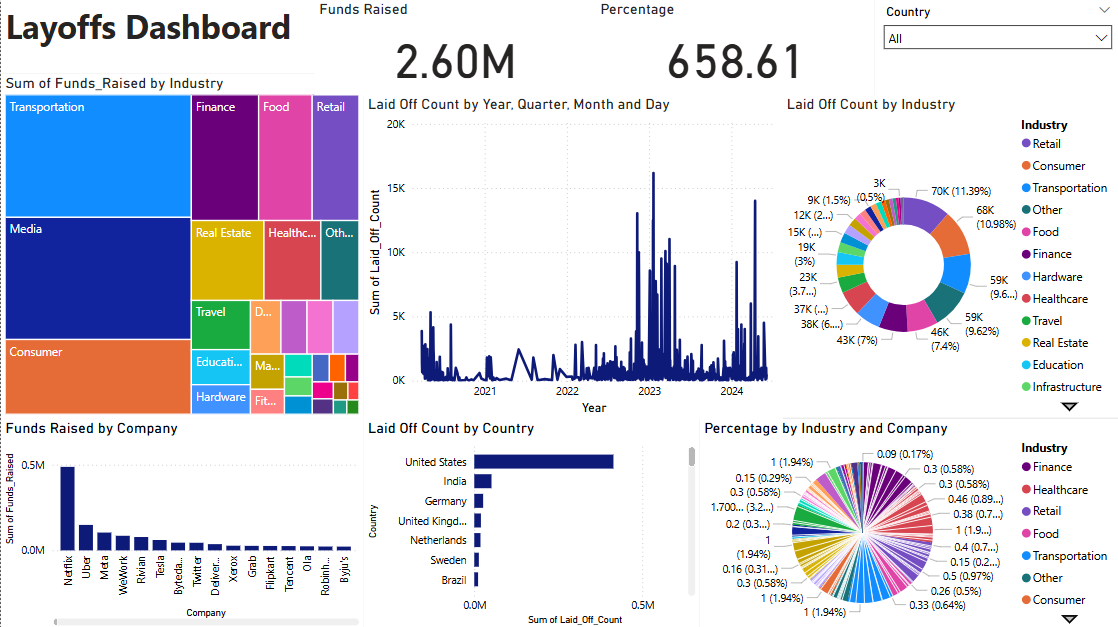

What the dashboard file says about the page in this screenshot:
{"tool":"powerbi","page":{"name":"Page 1","canvas":[1280,720],"ordinal":0},"visuals":[{"type":"textbox","box":[0,0,378.6,84.3],"z":0},{"type":"clusteredColumnChart","title":"Funds Raised by Company","fields":{"Category":["layoffs_data.Company"],"Y":["Sum(layoffs_data.Funds_Raised)"]},"box":[0,478.6,414.3,241.4],"z":1000},{"type":"barChart","title":"Laid Off Count by Country","fields":{"Category":["layoffs_data.Country"],"Y":["Sum(layoffs_data.Laid_Off_Count)"]},"box":[414.3,478.6,384.3,241.4],"z":2000},{"type":"pieChart","title":"Percentage by Industry and Company","fields":{"Y":["Sum(layoffs_data.Percentage)"],"Category":["layoffs_data.Industry"],"Series":["layoffs_data.Company"]},"box":[798.6,478.6,481.4,241.4],"z":3000},{"type":"slicer","fields":{"Values":["layoffs_data.Country"]},"box":[998.6,0,281.4,108.6],"z":4000},{"type":"treemap","fields":{"Values":["Sum(layoffs_data.Funds_Raised)"],"Group":["layoffs_data.Industry"]},"box":[0,84.3,414.3,394.3],"z":5000},{"type":"card","title":"Funds Raised ","fields":{"Values":["Sum(layoffs_data.Funds_Raised)"]},"box":[358.6,0,321.4,108.6],"z":6000},{"type":"card","title":"Percentage","fields":{"Values":["Sum(layoffs_data.Percentage)"]},"box":[680,0,318.6,108.6],"z":7000},{"type":"lineChart","title":"Laid Off Count by Year, Quarter, Month and Day","fields":{"Category":["layoffs_data.Date_Added.Variation.Date Hierarchy.Year","layoffs_data.Date_Added.Variation.Date Hierarchy.Quarter","layoffs_data.Date_Added.Variation.Date Hierarchy.Month","layoffs_data.Date_Added.Variation.Date Hierarchy.Day"],"Y":["Sum(layoffs_data.Laid_Off_Count)"]},"box":[414.4,108.4,478.9,370.5],"z":8000},{"type":"donutChart","title":"Laid Off Count by Industry","fields":{"Y":["Sum(layoffs_data.Laid_Off_Count)"],"Category":["layoffs_data.Industry"]},"box":[893.3,108.4,387,369.1],"z":8001}]}

Visuals, with their boxes in screenshot pixels (x1, y1, x2, y2), scaled from the page's 1280x720 canvas onto the 1118x627 screenshot:
textbox: 0/0/331/73
"Funds Raised by Company" clusteredColumnChart: 0/417/362/626
"Laid Off Count by Country" barChart: 362/417/698/626
"Percentage by Industry and Company" pieChart: 698/417/1117/626
slicer - layoffs_data.Country: 872/0/1117/95
treemap - Sum(layoffs_data.Funds_Raised) x layoffs_data.Industry: 0/73/362/417
"Funds Raised " card: 313/0/594/95
"Percentage" card: 594/0/872/95
"Laid Off Count by Year, Quarter, Month and Day" lineChart: 362/94/780/417
"Laid Off Count by Industry" donutChart: 780/94/1117/416
